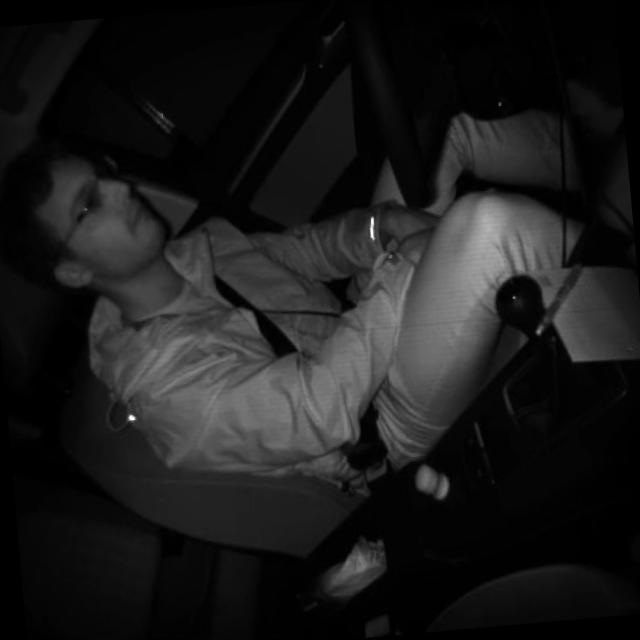pen: (528, 260, 589, 336)
